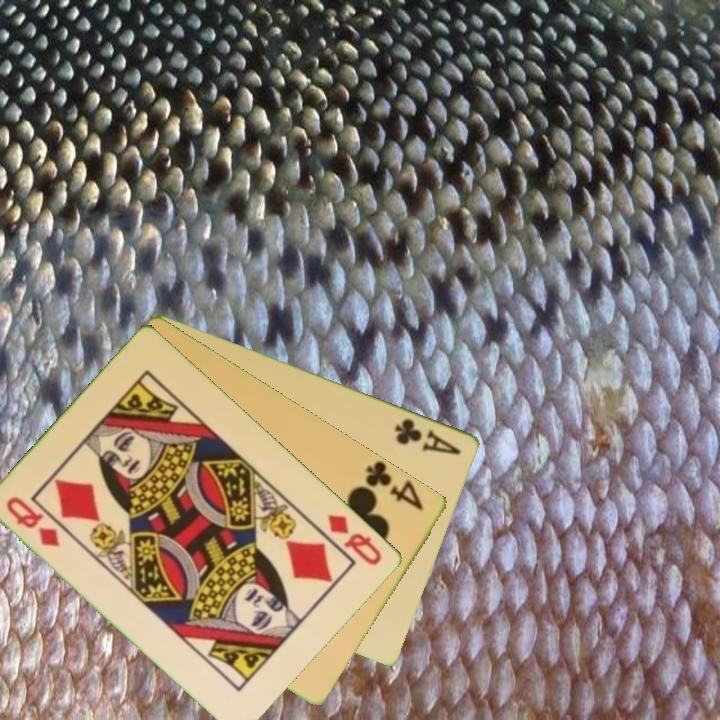4c: (362, 458, 427, 514)
Ac: (391, 414, 464, 458)
Qd: (324, 510, 386, 569), (3, 493, 64, 550)
